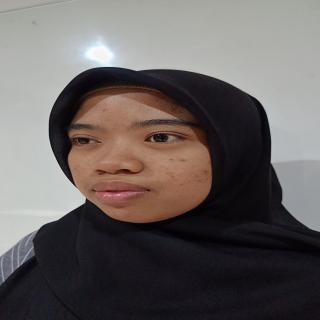Netral: (58, 84, 230, 230)
